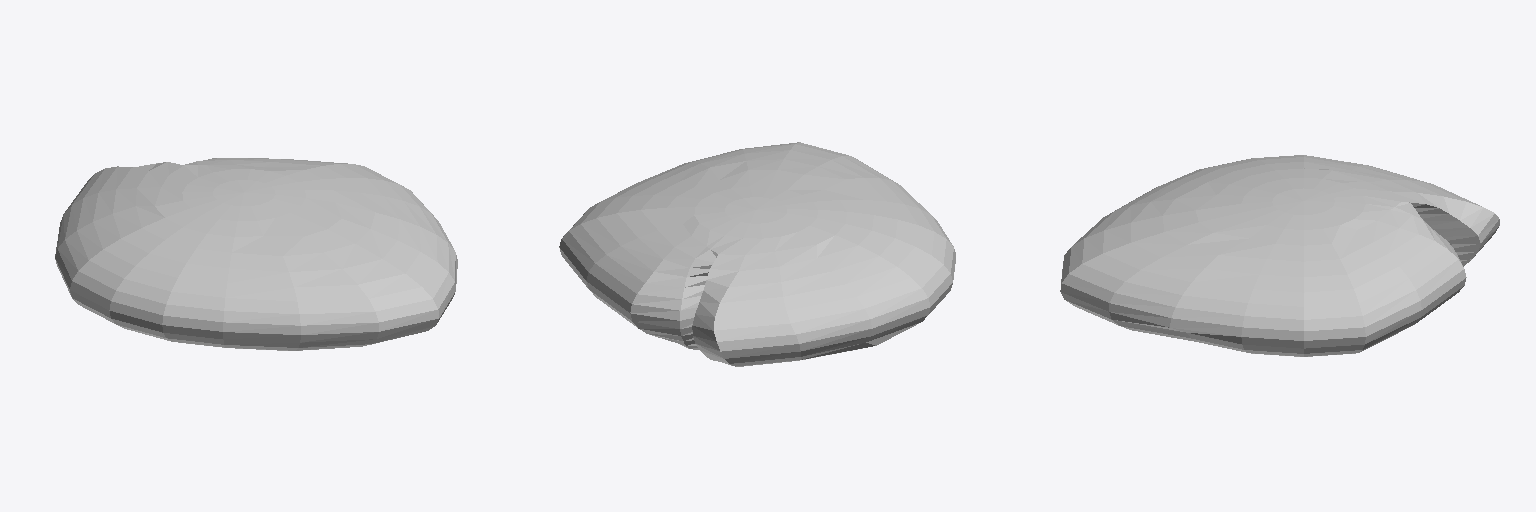
The model's file is Heart-Mod.obj.
3 views of the same model, side by side, from view 1: azimuth 30°, elevation 25°; view 2: azimuth 150°, elevation 25°; view 3: azimuth 270°, elevation 25° (orthographic).
Visible parts, largest first — view 1: pSphere1; view 2: pSphere1; view 3: pSphere1.
Part boxes in pixels (x1,y1,x2,y2): pSphere1: (55,158,457,350); pSphere1: (559,142,955,366); pSphere1: (1060,155,1499,356).
Size of the model in its own units: 11.96 by 3.59 by 13.04.